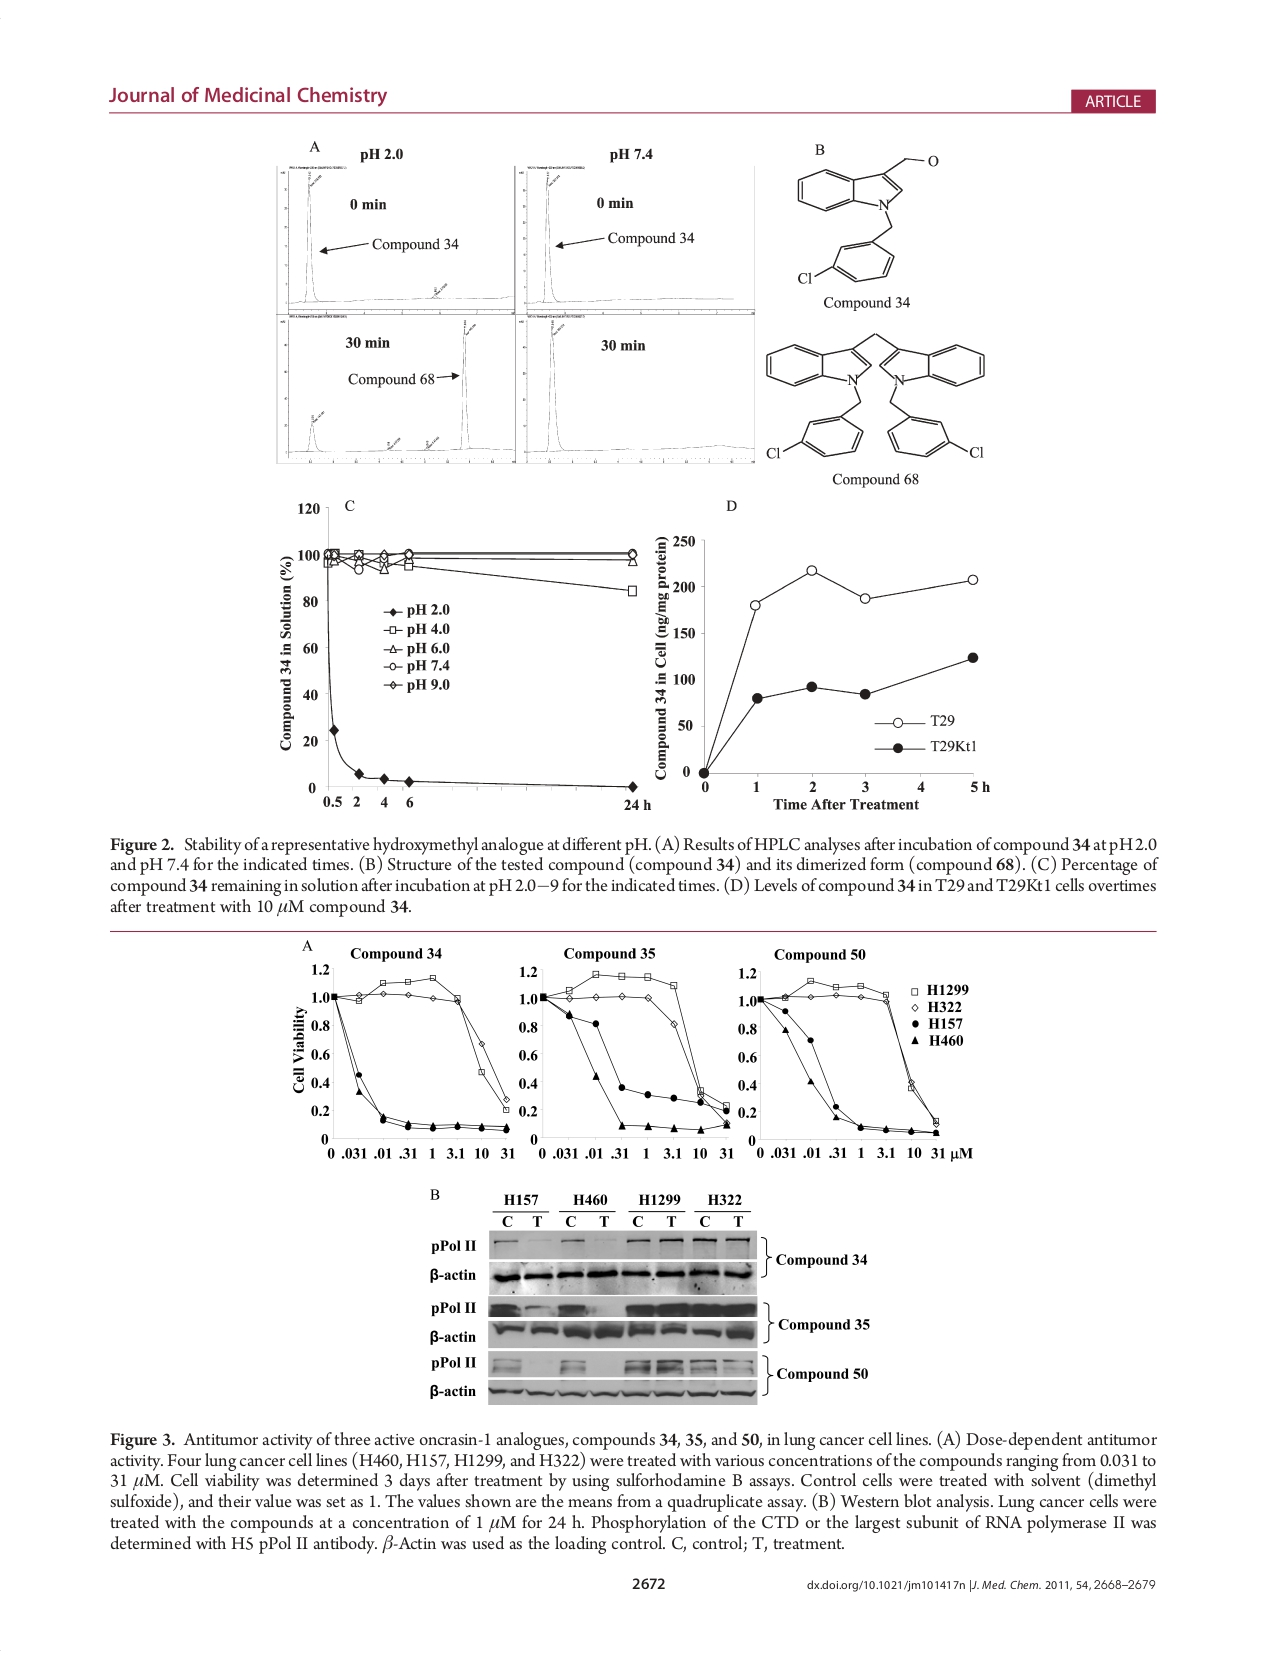exist_molecular: (761, 327, 989, 469), (794, 153, 939, 290)
